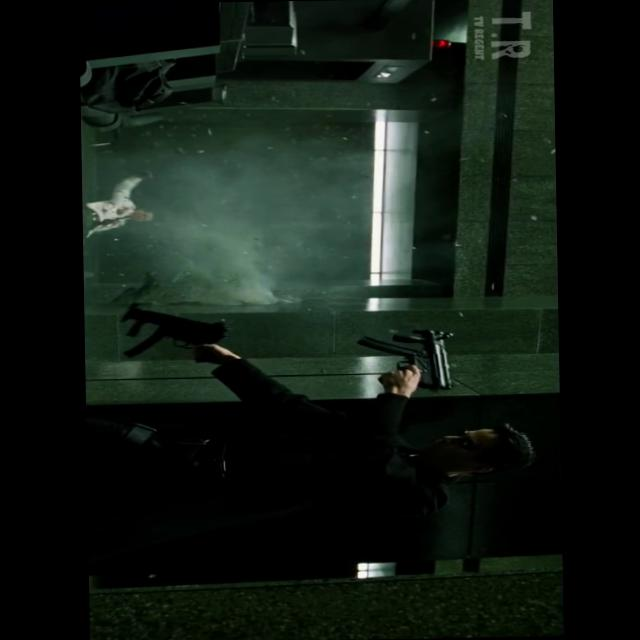long weapon: (86, 286, 249, 373), (338, 320, 494, 400)
